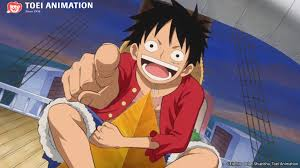luffy: (119, 1, 212, 100)
